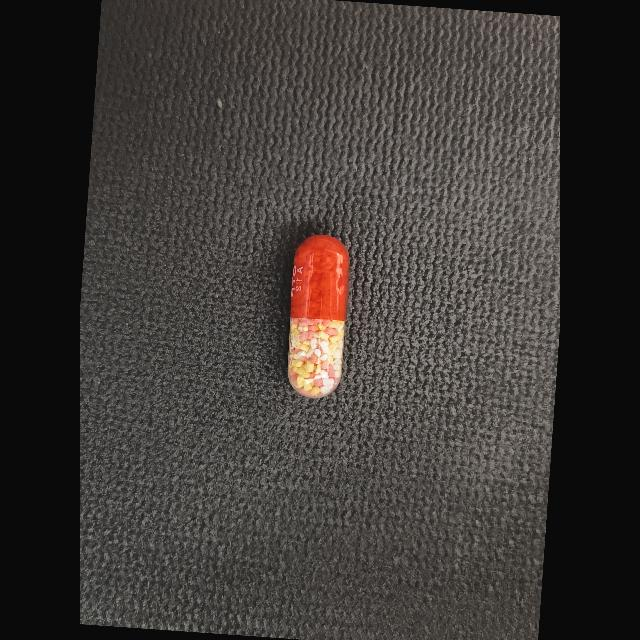Intact Capsule: (288, 235, 349, 399)
